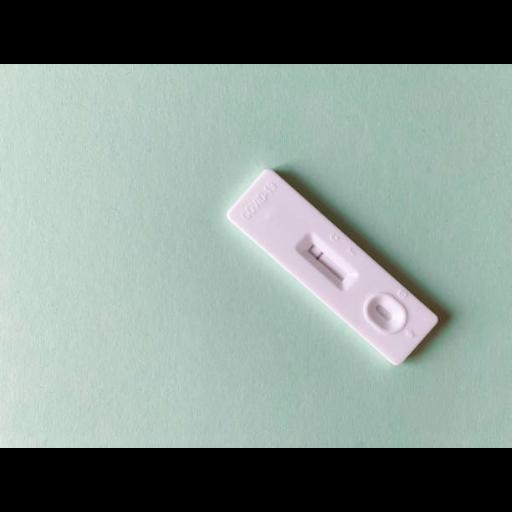Neg: (227, 167, 441, 365)
